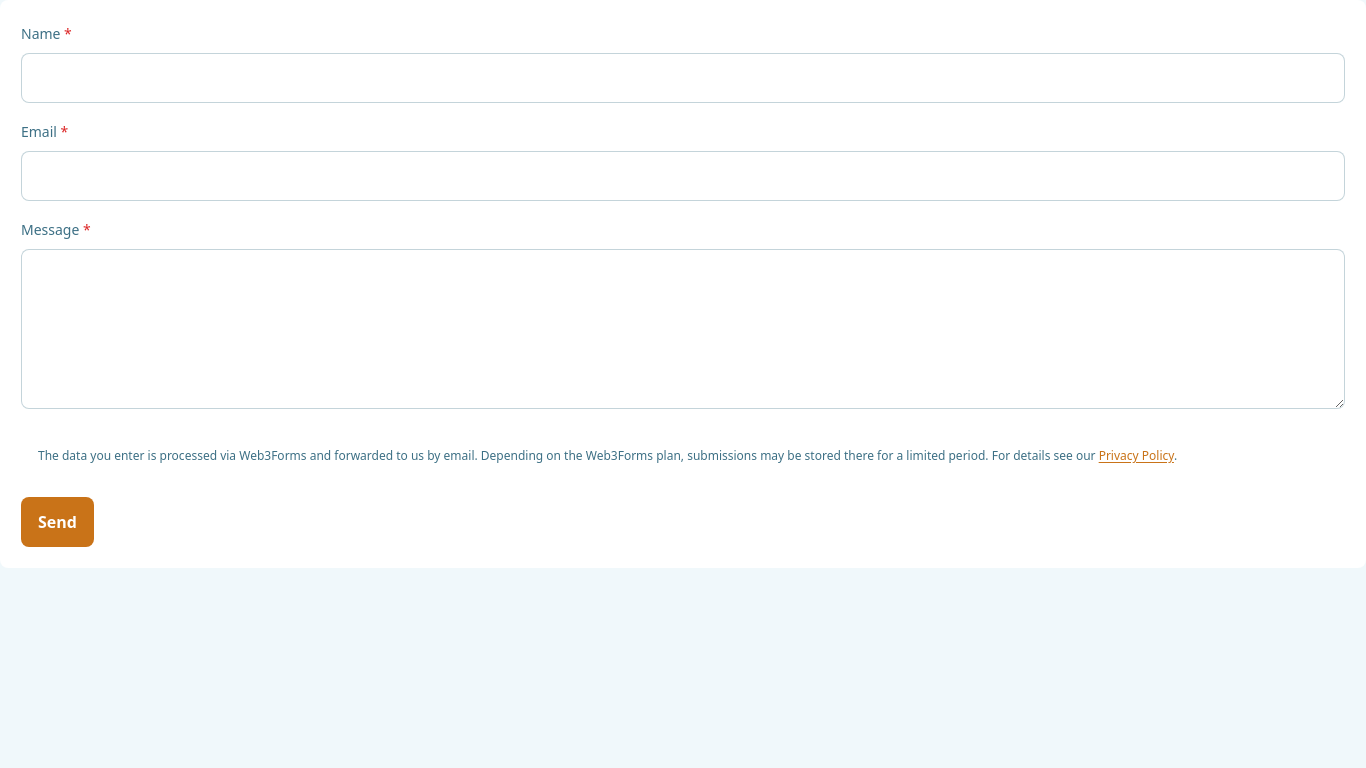
Test: ContactForm › blocks submit if Web3Forms key is missing
The image size is (1366, 768).
Type "Test" into the field labelled "Name *". click: (683, 78)
box: top-left (21, 53), bottom-right (1345, 103)
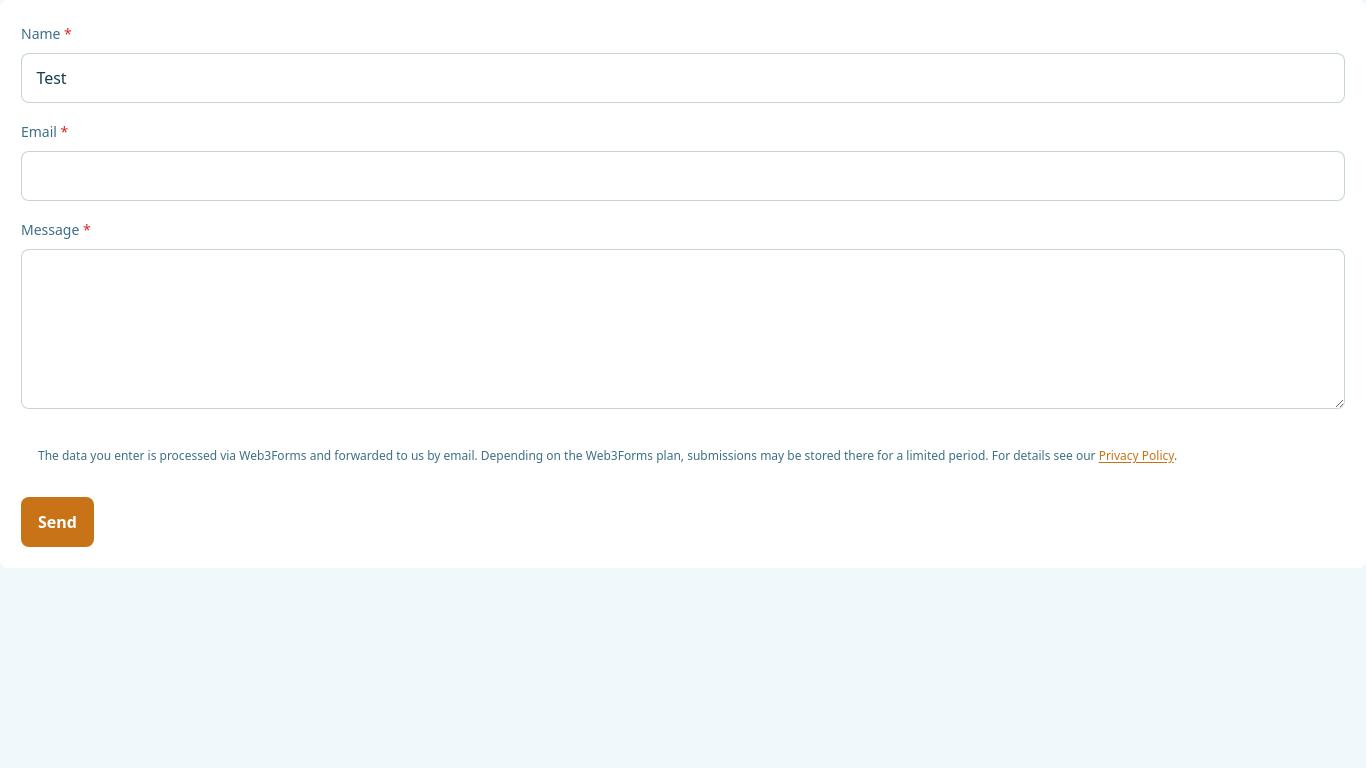
Type "test@example.com" into the field labelled "Email *". click: (683, 176)
box: top-left (21, 151), bottom-right (1345, 201)
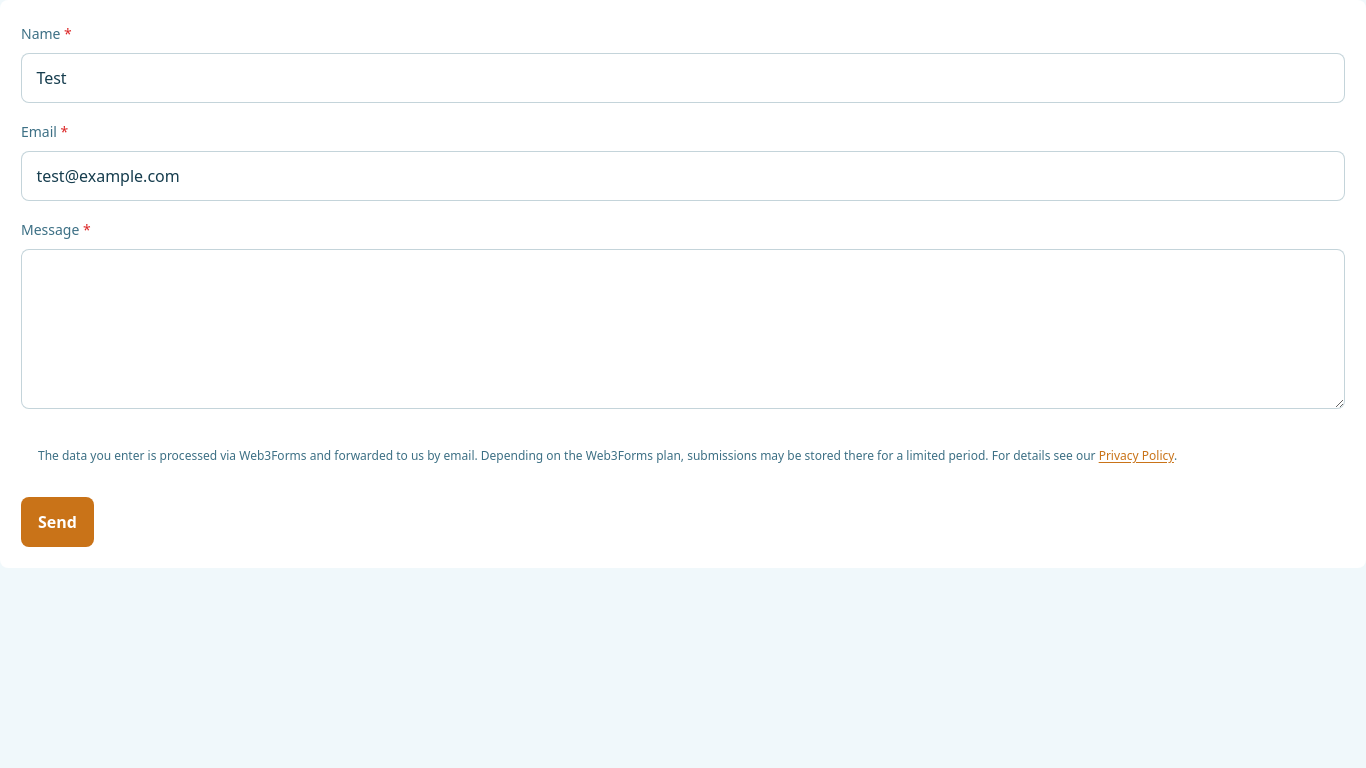
Type "Hello" into the text box labelled "Message *". click: (683, 329)
box: top-left (21, 249), bottom-right (1345, 409)
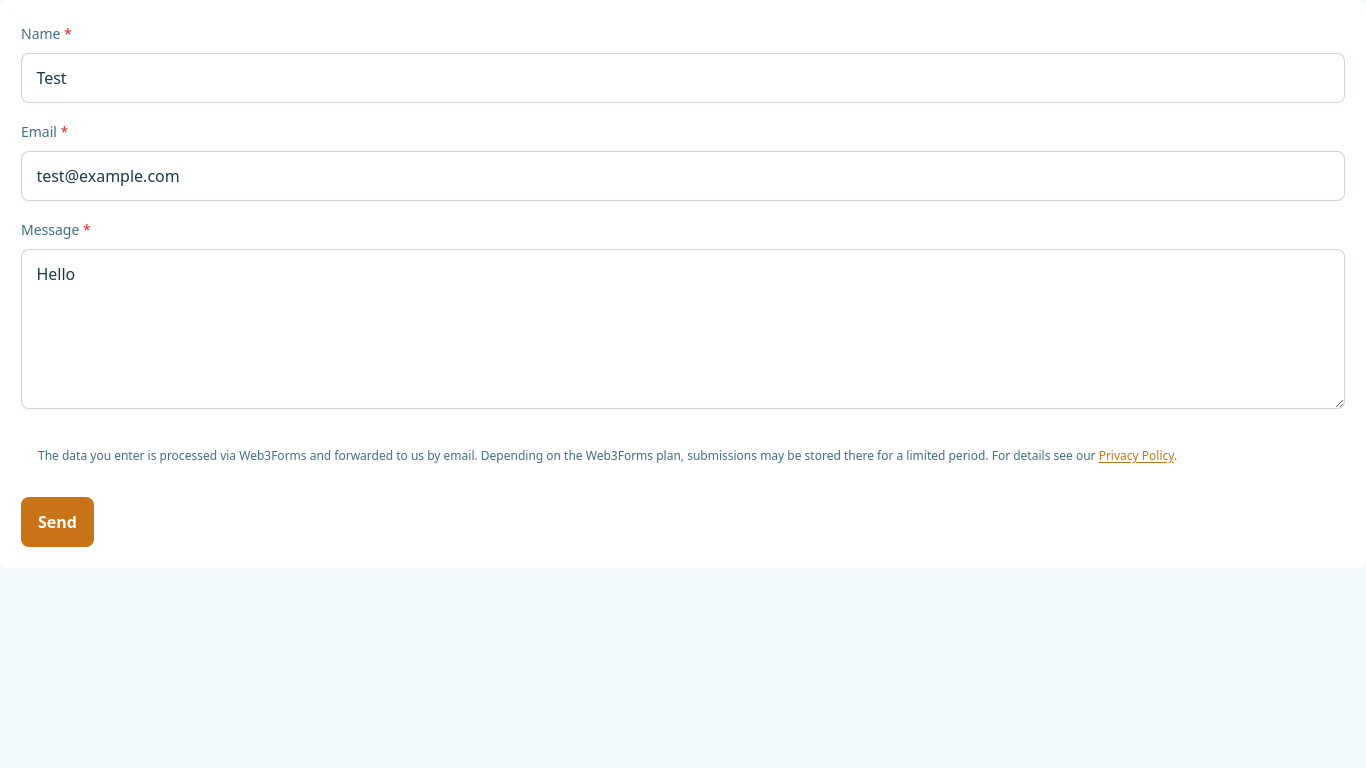
Click the button "Send". click: (57, 522)
box: top-left (21, 497), bottom-right (94, 547)
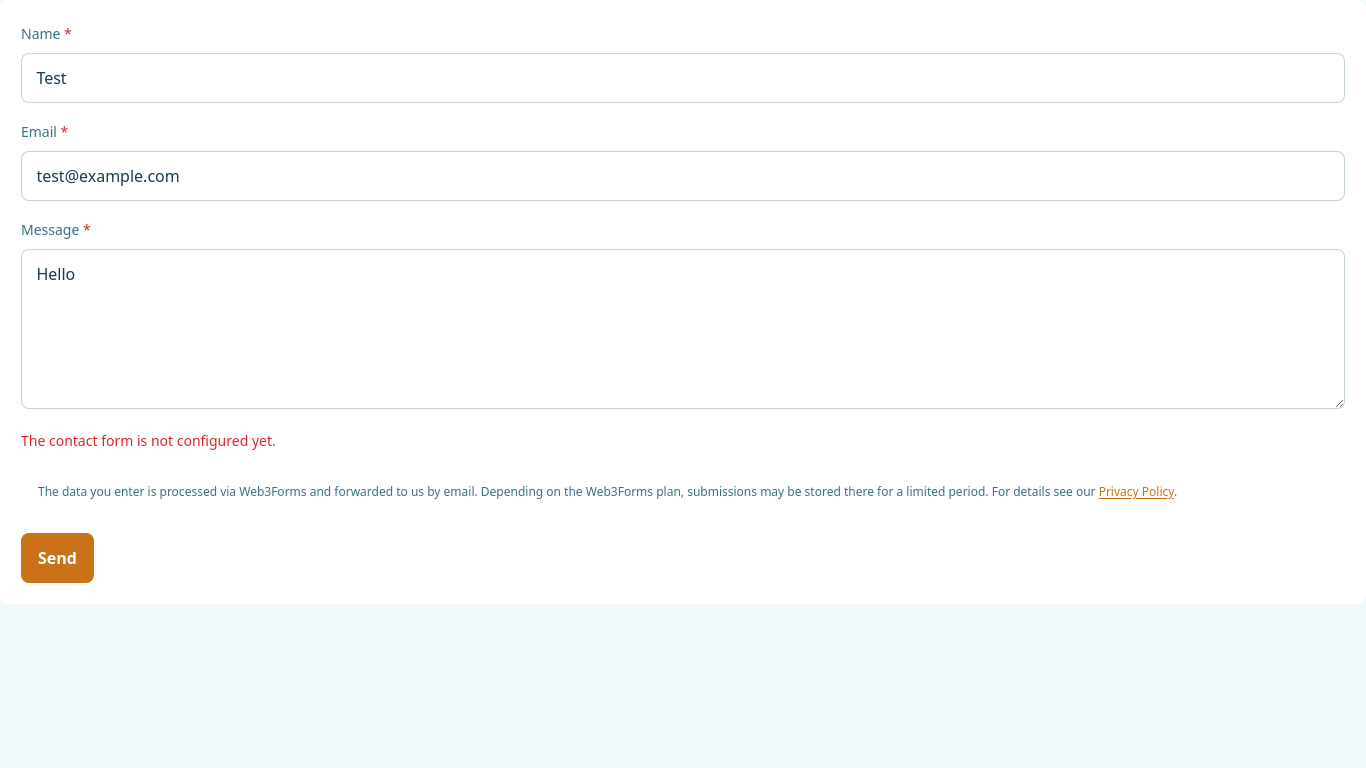
Check: the text "The contact form is not configured yet." is shown, box top-left (21, 431), bottom-right (276, 450)
